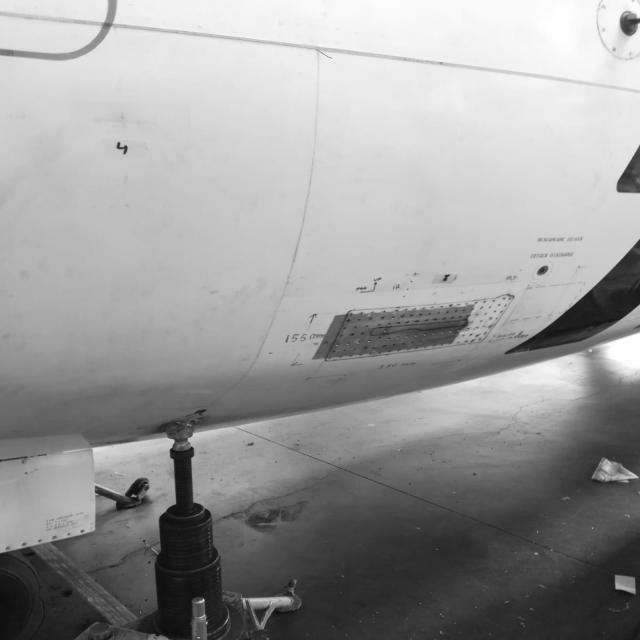Rupture: (316, 48, 333, 66)
